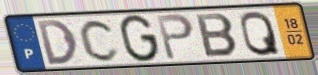B: (194, 12, 241, 59)
C: (77, 17, 122, 63)
D: (35, 18, 80, 67)
G: (118, 13, 162, 64)
P: (154, 12, 196, 62)
Q: (239, 9, 283, 58)
